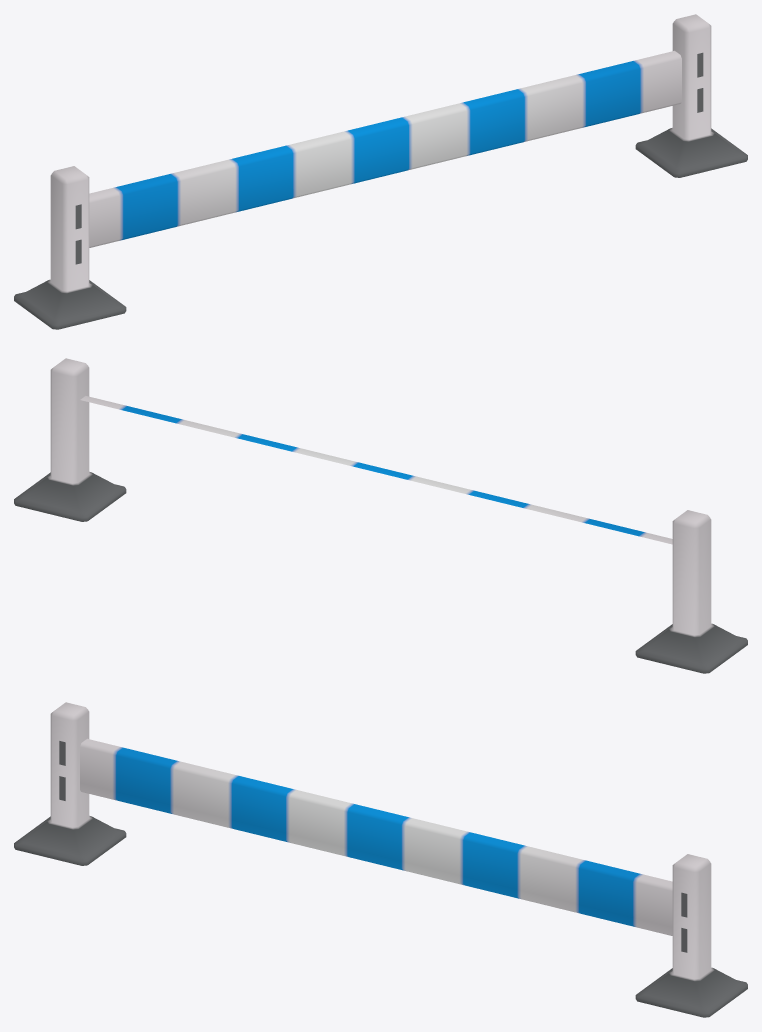
Rendered from ObstacleLowBarrier.prefab.glb.
3 views of the same model, one above another, from view 1: azimuth 30°, elevation 25°; view 2: azimuth 150°, elevation 25°; view 3: azimuth 330°, elevation 25° (orthographic).
Visible parts, largest first — view 1: RoadWorksBarrierLow; view 2: RoadWorksBarrierLow; view 3: RoadWorksBarrierLow.
Boxes of the visible parts, x1=… form: RoadWorksBarrierLow: x1=14, y1=14, x2=747, y2=329; RoadWorksBarrierLow: x1=14, y1=358, x2=747, y2=673; RoadWorksBarrierLow: x1=14, y1=702, x2=747, y2=1017.
Size of the model in its own units: 4.02 by 0.7362 by 0.4257.
